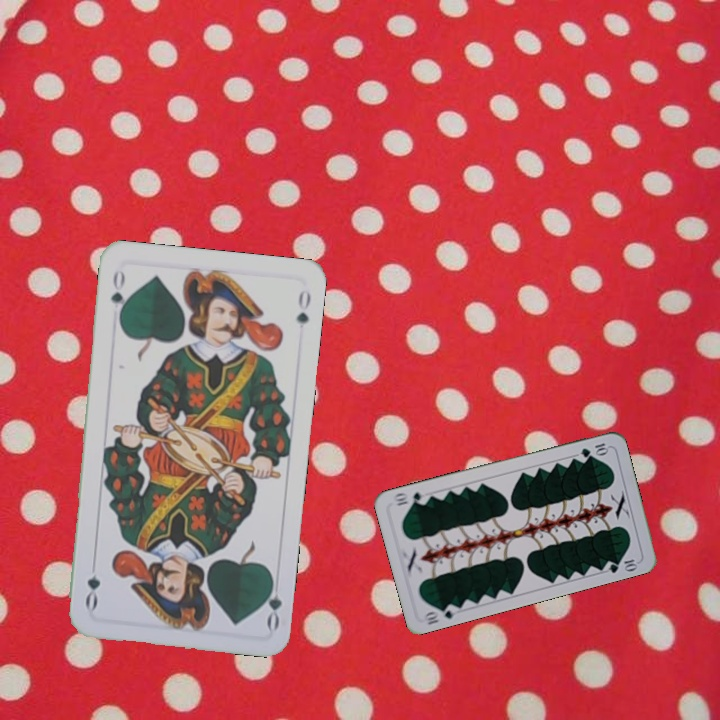G10: (420, 600, 460, 627), (577, 439, 611, 460)
GO: (258, 572, 285, 632), (106, 266, 130, 324)
